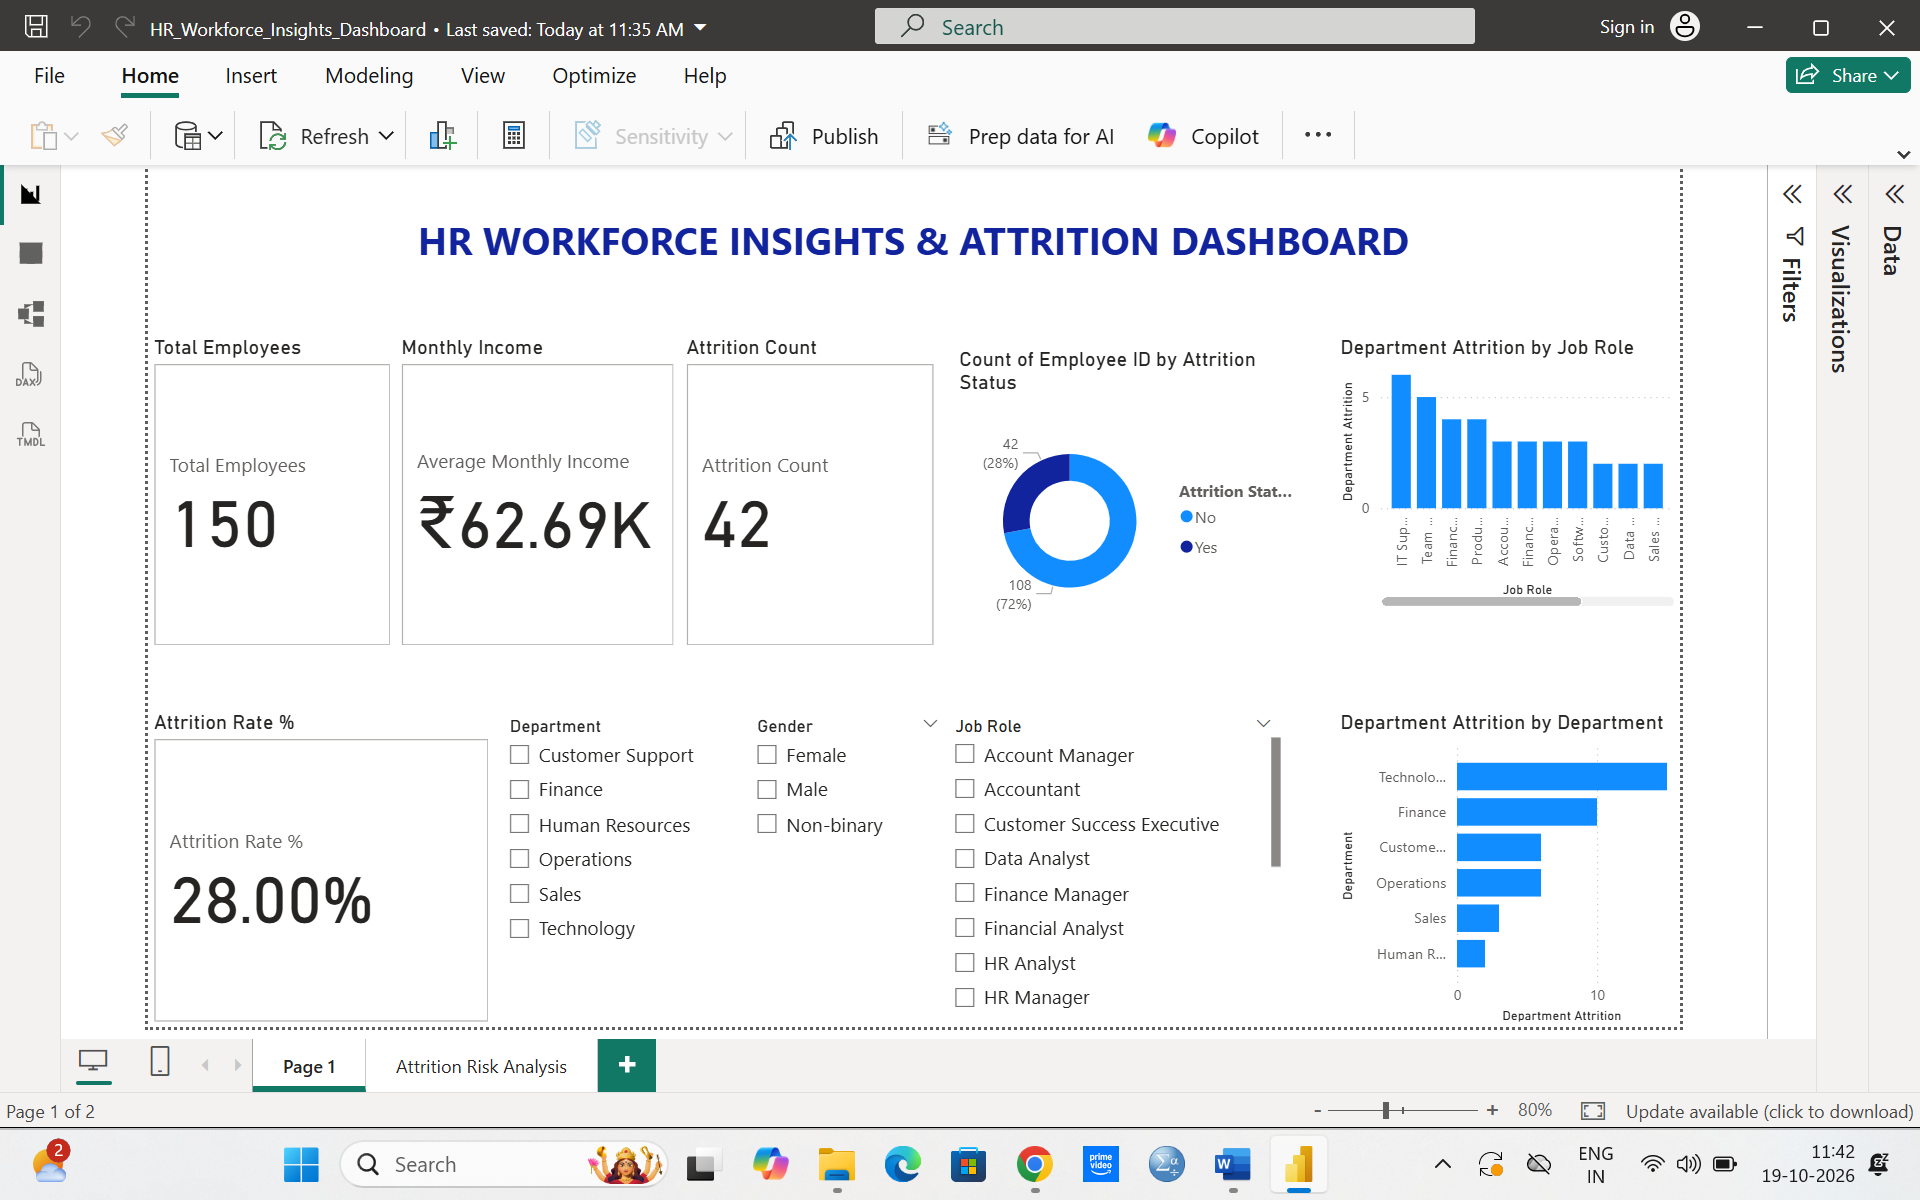

The page's visual inventory and layout, read from the dashboard file:
{"tool":"powerbi","page":{"name":"Page 1","canvas":[1280,720],"ordinal":0},"visuals":[{"type":"cardVisual","title":"Total Employees","fields":{"Data":["EmployeeData.Total Employees"]},"box":[0,142,207.9,264.7],"z":0},{"type":"cardVisual","title":"Attrition Count","fields":{"Data":["EmployeeData.Attrition Count"]},"box":[444.2,142,216.9,264.7],"z":1},{"type":"cardVisual","title":"Attrition Rate %","fields":{"Data":["EmployeeData.Attrition Rate %"]},"box":[0,454.8,289.4,265.6],"z":2},{"type":"cardVisual","title":"Monthly Income","fields":{"Data":["EmployeeData.Average Monthly Income"]},"box":[206.6,142,237.6,264.7],"z":3},{"type":"donutChart","fields":{"Category":["EmployeeData.Attrition Status"],"Y":["CountNonNull(EmployeeData.Employee ID)"]},"box":[672.8,151.6,289.4,251.8],"z":4},{"type":"clusteredBarChart","fields":{"Category":["EmployeeData.Department"],"Y":["EmployeeData.Department Attrition"]},"box":[991.1,454.8,289.4,265.6],"z":5},{"type":"clusteredColumnChart","fields":{"Category":["EmployeeData.Job Role"],"Y":["EmployeeData.Department Attrition"]},"box":[991.1,141.6,288.2,231.8],"z":6},{"type":"slicer","fields":{"Values":["EmployeeData.Department"]},"box":[289.4,454.8,289.4,265.6],"z":7},{"type":"slicer","fields":{"Values":["EmployeeData.Gender"]},"box":[496.2,454.8,176.7,265.6],"z":8},{"type":"slicer","fields":{"Values":["EmployeeData.Job Role"]},"box":[661.5,454.8,289.4,265.6],"z":9},{"type":"textbox","box":[0,0,1279.2,104],"z":10}]}

Visuals, with their boxes on the page's 1280x720 design canvas (x1, y1, x2, y2). These are canvas units, not pixel positions in the 1920x1200 screenshot, which may show the page scaled, cropped or inside an application window:
"Total Employees" cardVisual: box=[0, 142, 208, 407]
"Attrition Count" cardVisual: box=[444, 142, 661, 407]
"Attrition Rate %" cardVisual: box=[0, 455, 289, 720]
"Monthly Income" cardVisual: box=[207, 142, 444, 407]
donutChart - EmployeeData.Attrition Status x CountNonNull(EmployeeData.Employee ID): box=[673, 152, 962, 403]
clusteredBarChart - EmployeeData.Department x EmployeeData.Department Attrition: box=[991, 455, 1280, 720]
clusteredColumnChart - EmployeeData.Job Role x EmployeeData.Department Attrition: box=[991, 142, 1279, 373]
slicer - EmployeeData.Department: box=[289, 455, 579, 720]
slicer - EmployeeData.Gender: box=[496, 455, 673, 720]
slicer - EmployeeData.Job Role: box=[662, 455, 951, 720]
textbox: box=[0, 0, 1279, 104]
